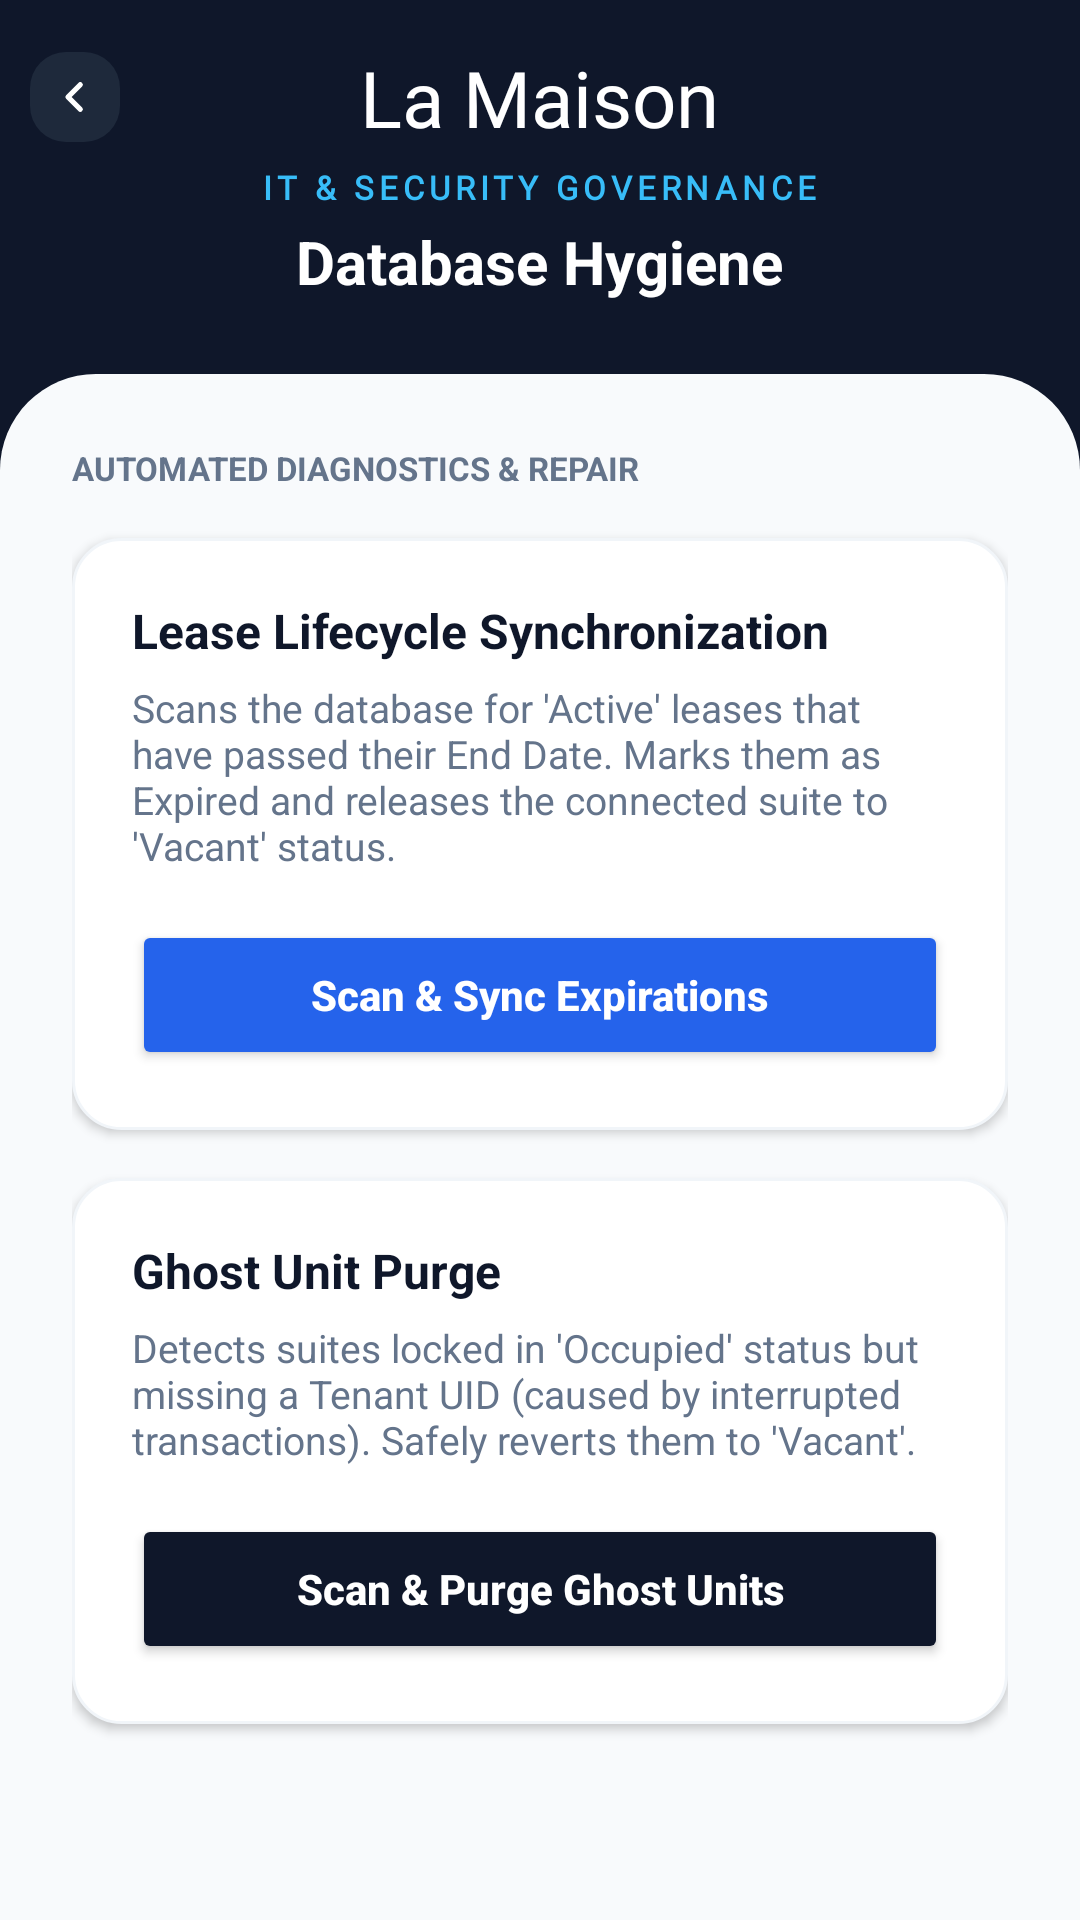

Icons on this 1080w x 1920h Android screen, each with its box as (x1, y1, x2, y2):
chevron left: (30, 52, 120, 142)
